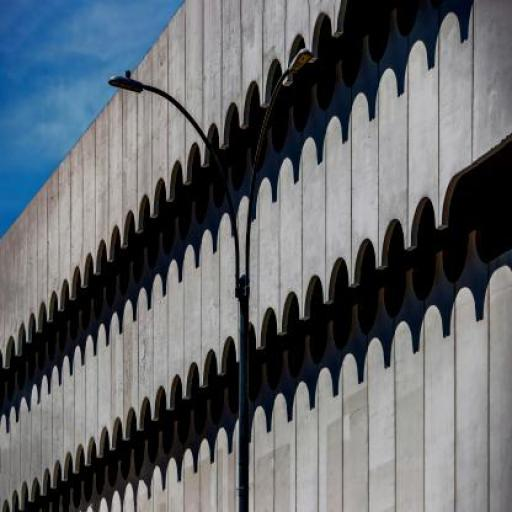street light: (109, 47, 314, 511)
